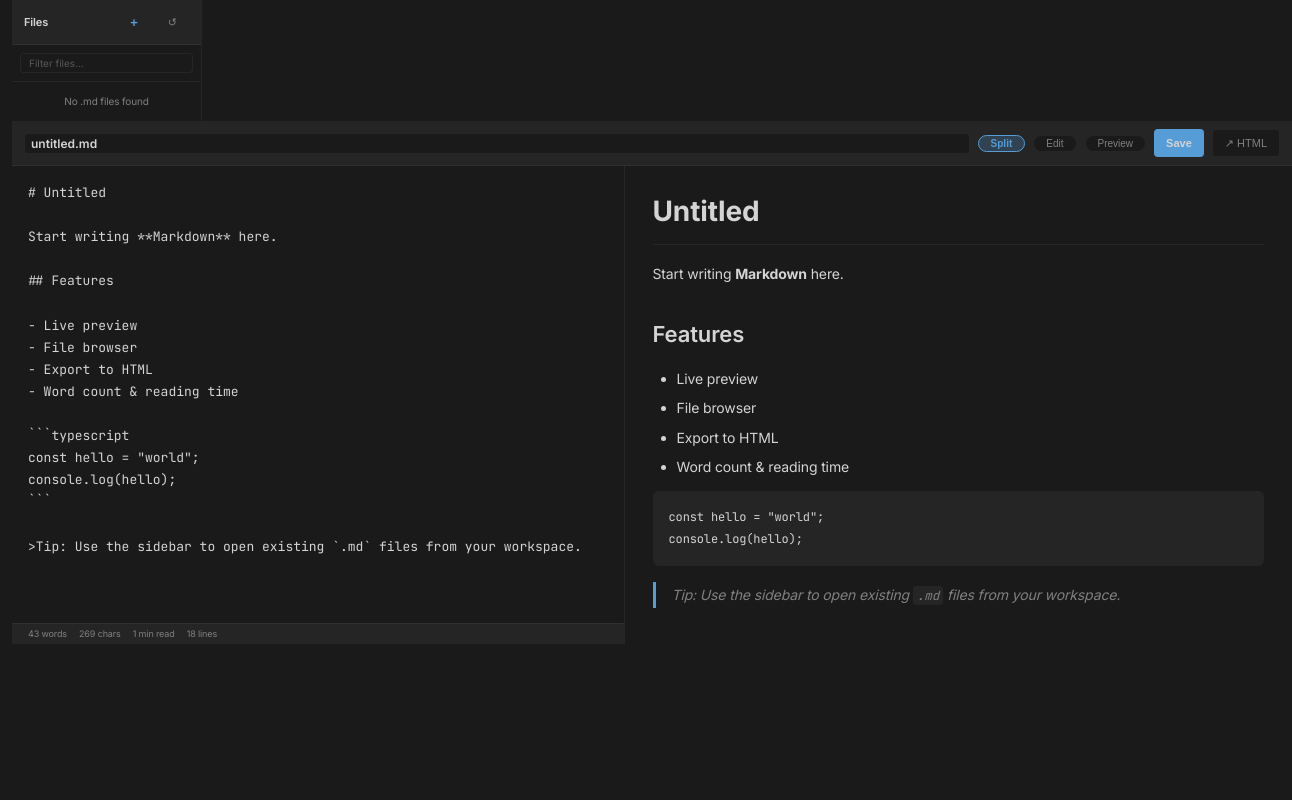
Test case: MarkdownPanel — editing and saving › Given a caret position, when Tab is pressed, then two spaces are inserted and the caret advances by two
Replace the text in the text box named "Markdown editor" with "ab" at x=318, y=395, box [12,166,624,623]
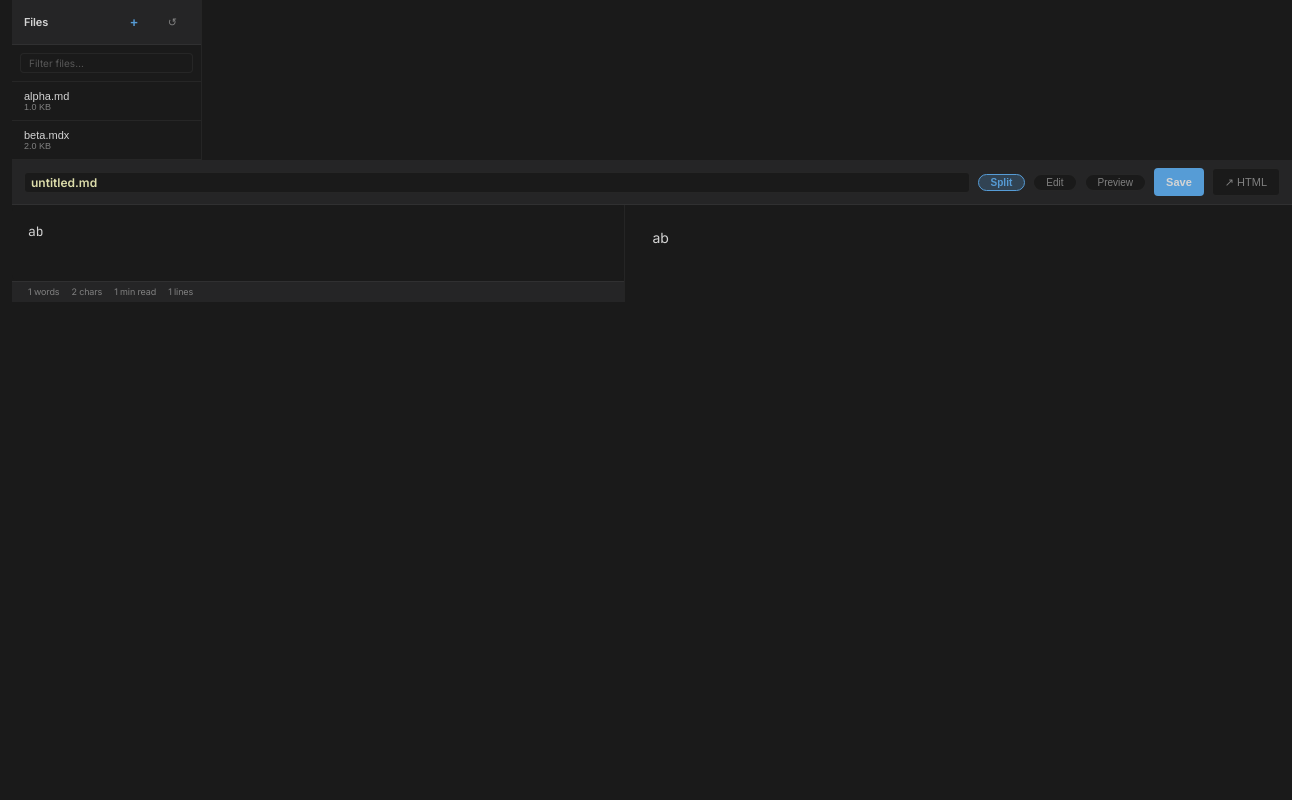
Press Tab in the text box named "Markdown editor", box [12,205,624,281]
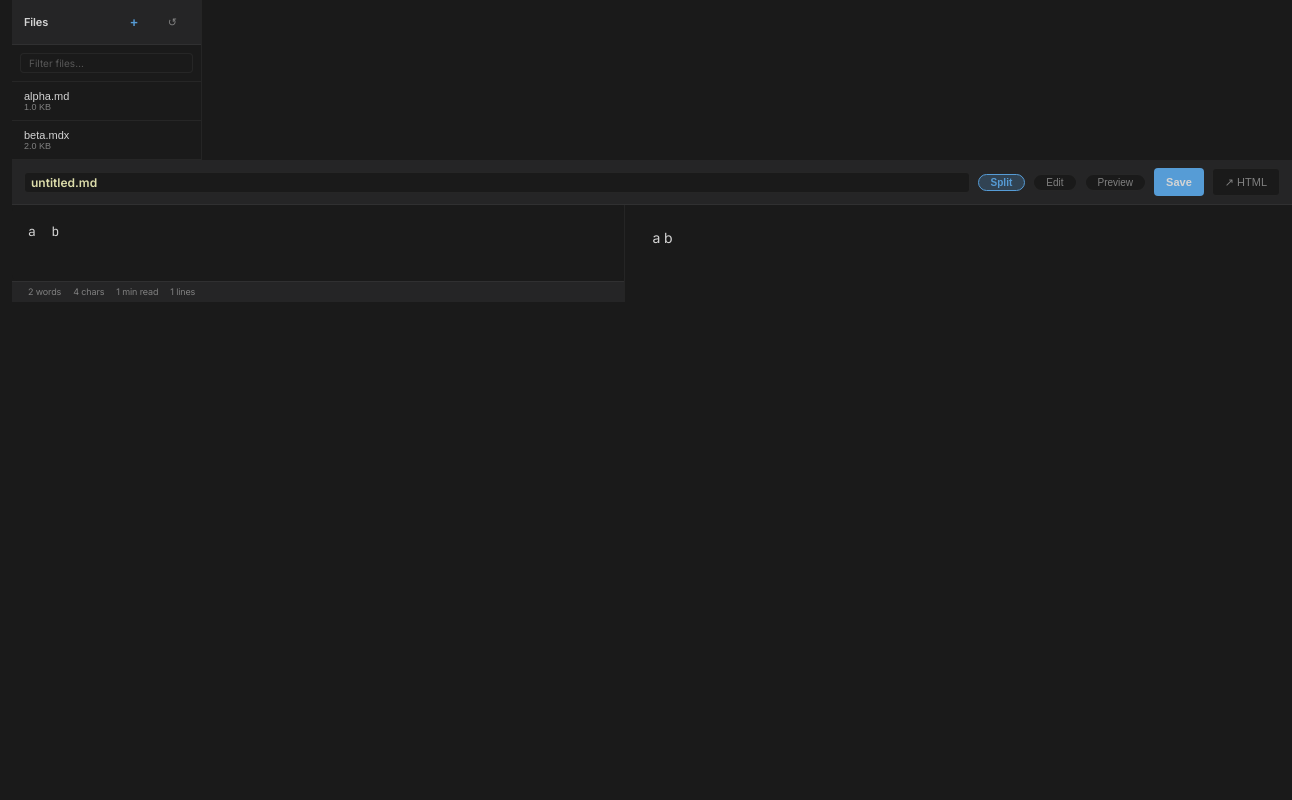
Check: the text box named "Markdown editor" holds "a  b", box [12,205,624,281]
